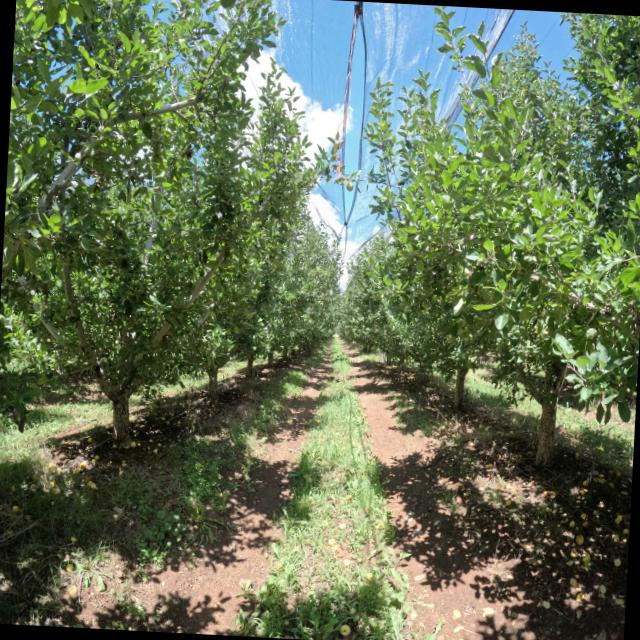-FireBlight-: (89, 167, 111, 193), (625, 300, 640, 338)
